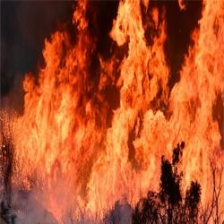fire: (3, 2, 224, 219)
